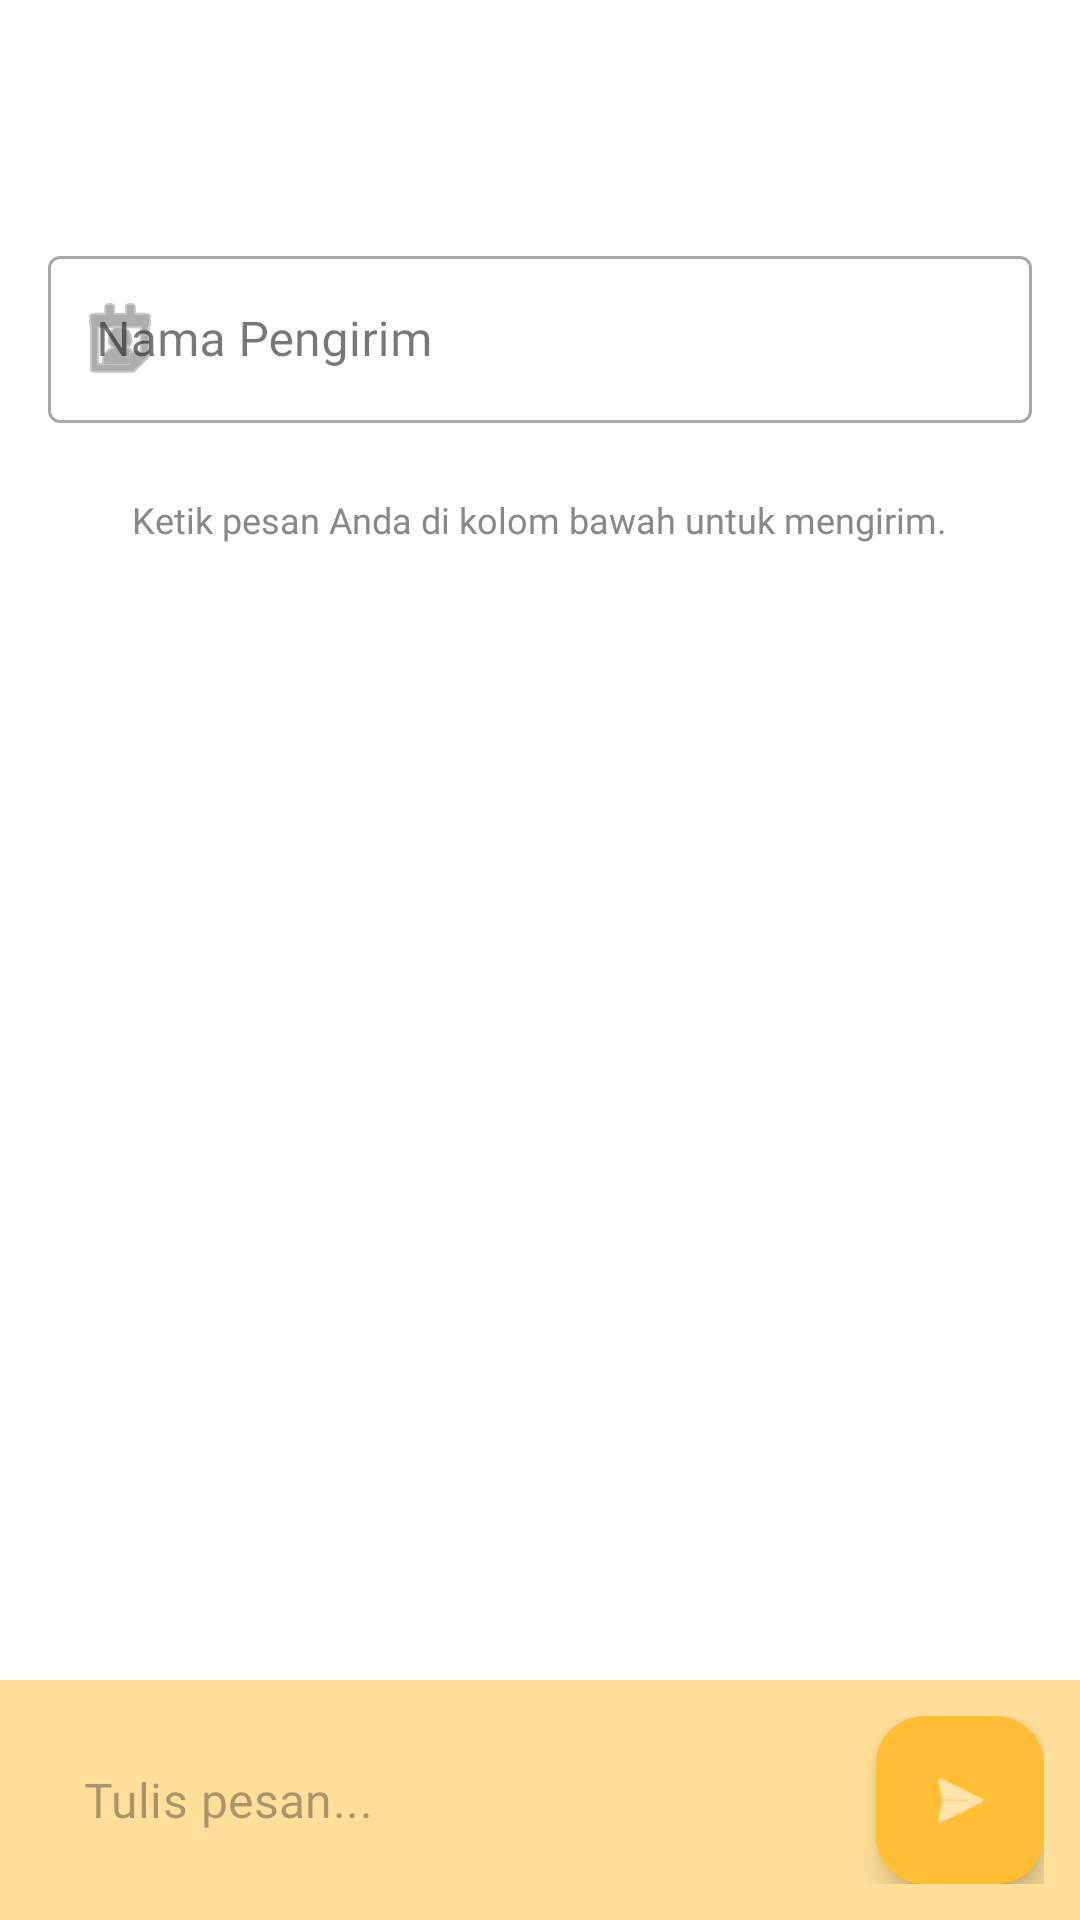

Point at icon controls on the screen. Image size 1080*1920, points as (x=x, y=y).
Kirim: (x=960, y=1800)
